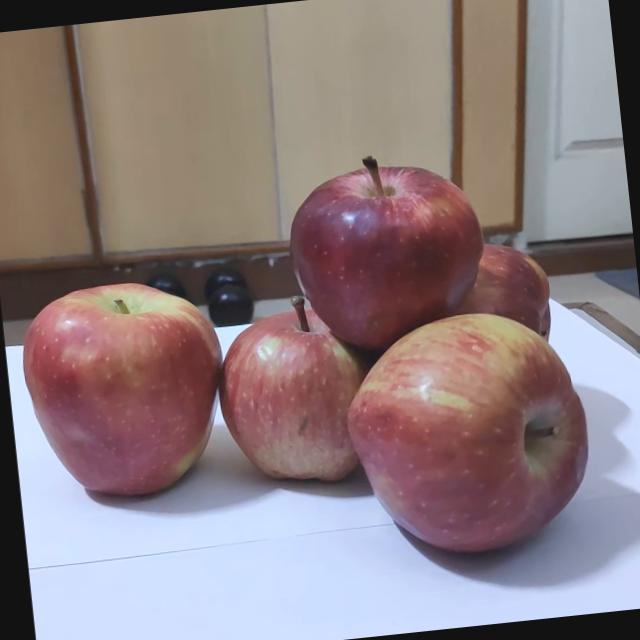apple: (338, 318, 611, 594), (0, 256, 261, 534), (272, 139, 510, 380), (204, 296, 404, 514), (384, 241, 592, 400)
